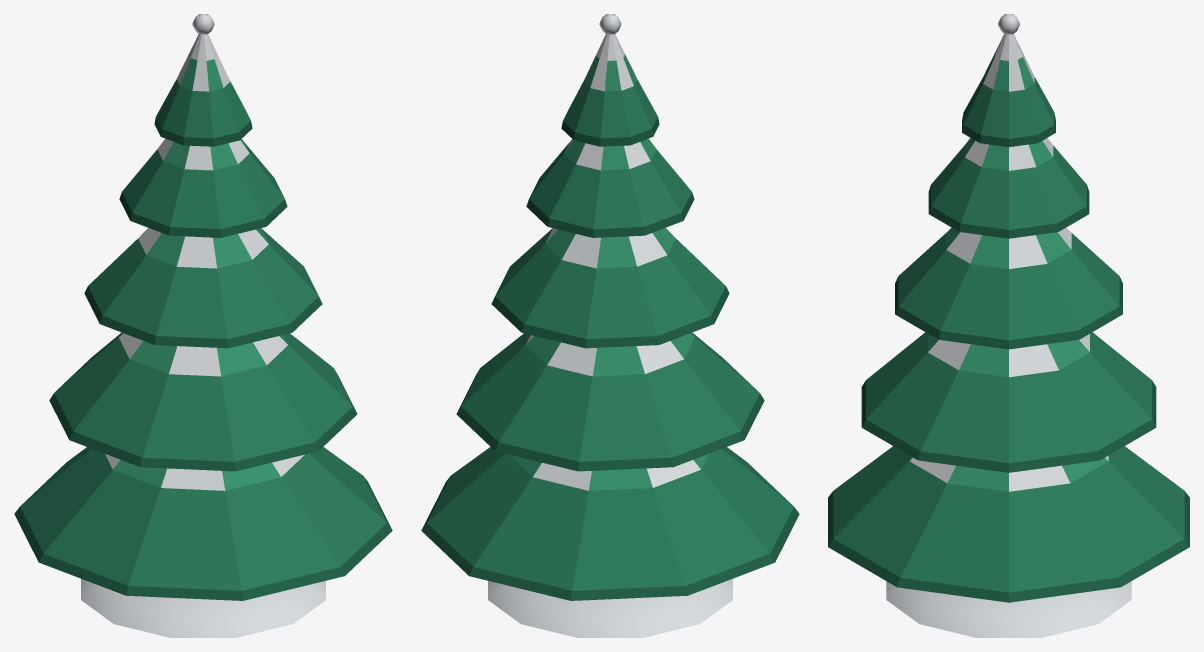
File: ice-deco1.glb
The picture shows the model from 3 angles, left to right: view 1: azimuth 30°, elevation 25°; view 2: azimuth 150°, elevation 25°; view 3: azimuth 270°, elevation 25°; orthographic projection.
Visible parts, largest first — view 1: ice-deco1; view 2: ice-deco1; view 3: ice-deco1.
Part boxes in pixels (box(x1,y1,x2,y2)): ice-deco1: box(14, 14, 392, 637); ice-deco1: box(421, 14, 799, 637); ice-deco1: box(828, 14, 1189, 637).
Bounding box in the file's own units: 2.7 × 4.48 × 2.57.
